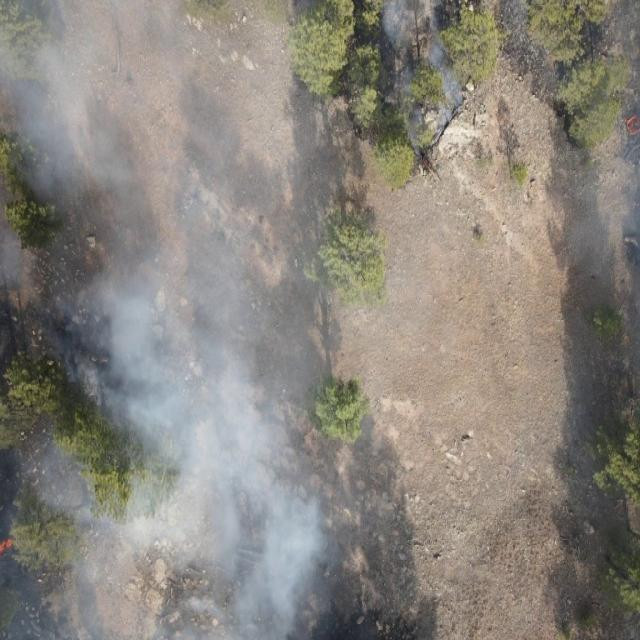fire: (624, 115, 640, 139), (0, 536, 15, 552)
smoke: (0, 0, 363, 640), (564, 0, 640, 314), (364, 217, 452, 448), (381, 0, 467, 154)
